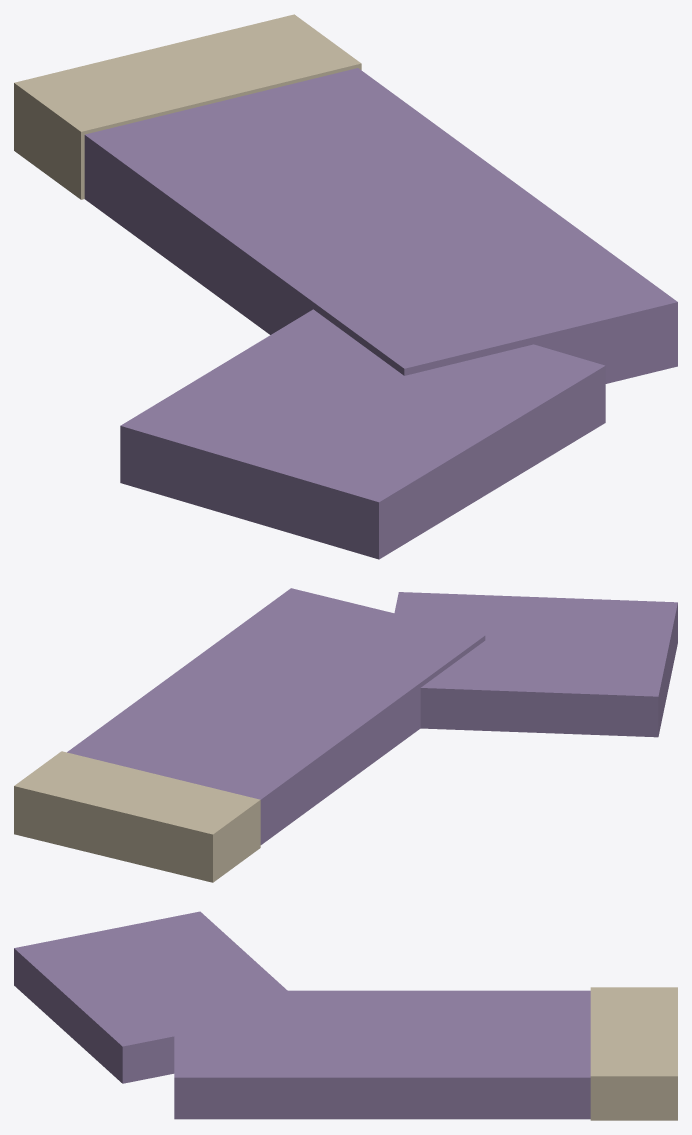
File: sock-dropped-mint.glb
3 renders of one model, top to bottom at view 1: azimuth 30°, elevation 25°; view 2: azimuth 150°, elevation 25°; view 3: azimuth 270°, elevation 25°, orthographic. The views are drawn at different scales.
Parts seen in each view (by area): view 1: accent-lilac, paper; view 2: accent-lilac, paper; view 3: accent-lilac, paper.
Part boxes in pixels (bbox=[...]): accent-lilac: bbox=[84, 68, 677, 559]; paper: bbox=[14, 14, 361, 199]; accent-lilac: bbox=[67, 588, 677, 844]; paper: bbox=[14, 751, 260, 882]; accent-lilac: bbox=[14, 911, 590, 1119]; paper: bbox=[590, 987, 677, 1120].
Bounding box in the file's own units: 0.1582 × 0.019 × 0.2584.
